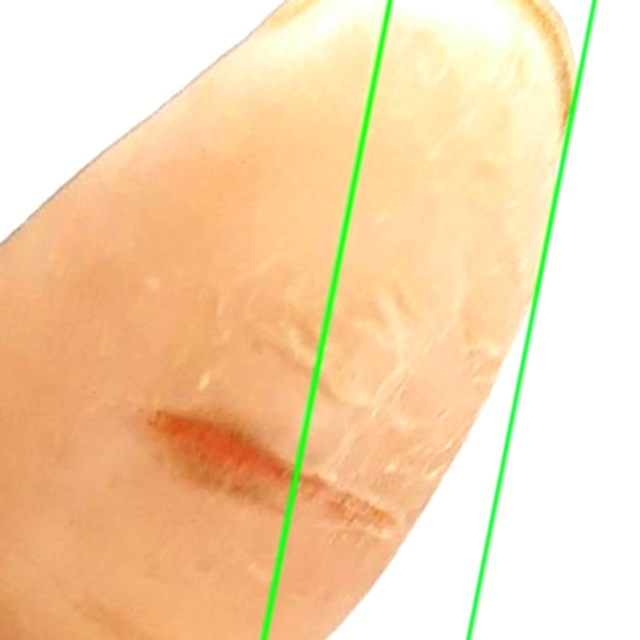Contact Dermatitis: (0, 0, 594, 639), (264, 0, 639, 639)
